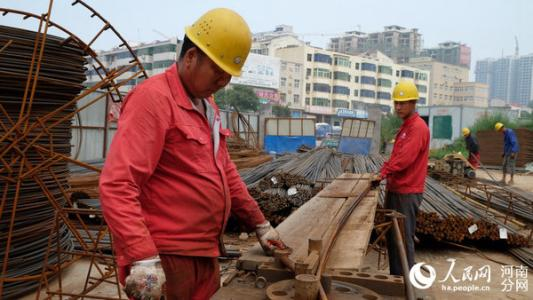gloves: (124, 255, 166, 300), (254, 219, 287, 255)
hard-hat: (184, 7, 252, 76), (391, 79, 419, 101)
person: (97, 7, 287, 300), (373, 79, 430, 276)
ppe-suit: (97, 62, 268, 299)
